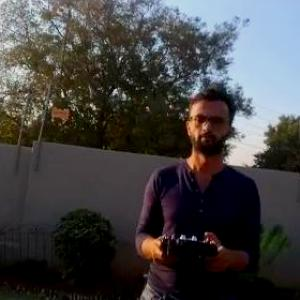follow: (125, 82, 265, 299)
